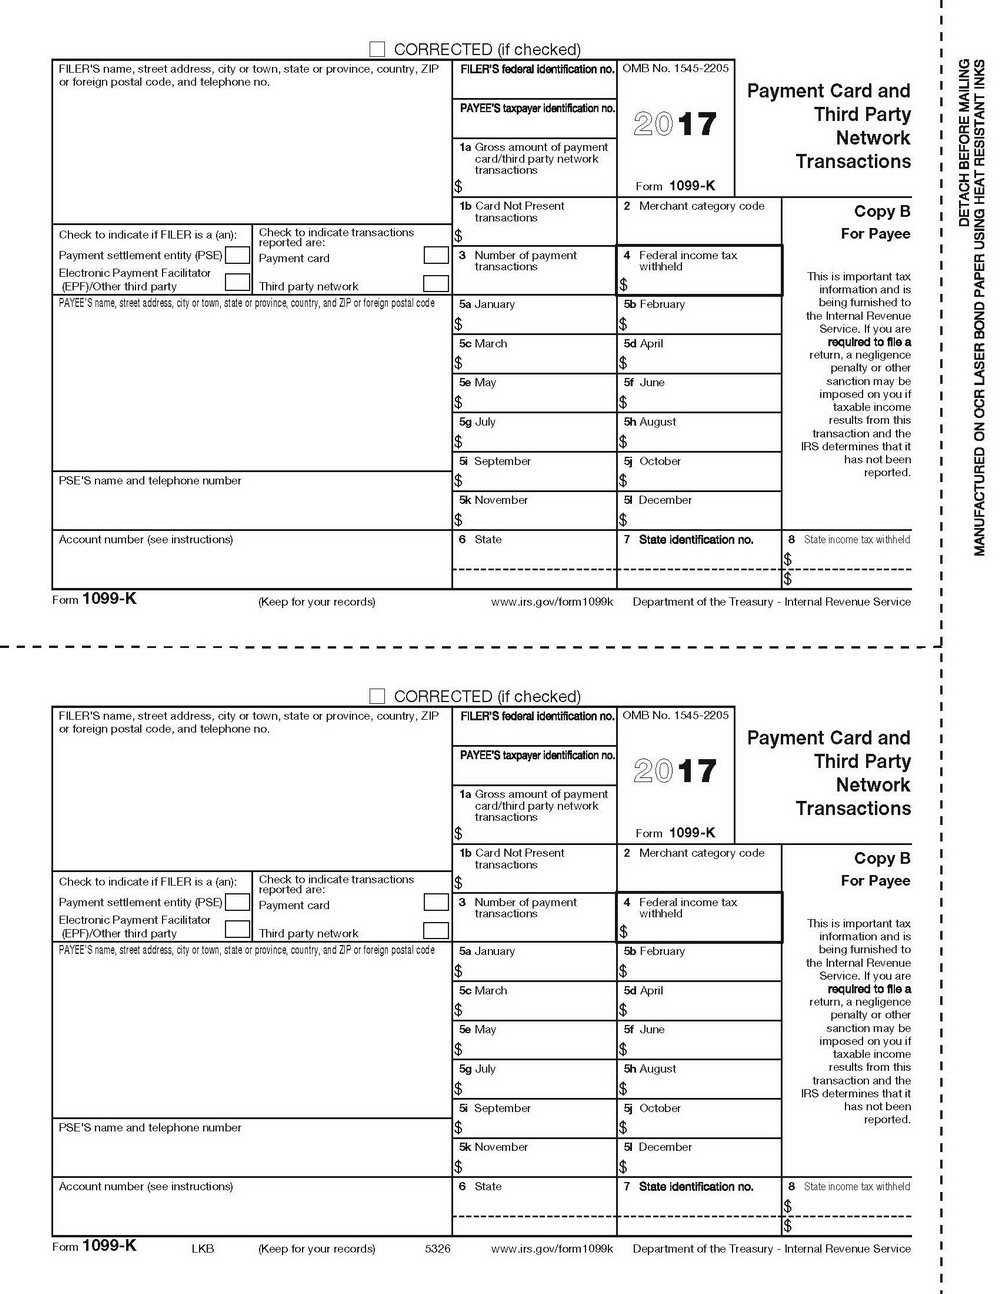checkbox: (221, 244, 252, 267), (223, 270, 254, 293), (222, 890, 253, 913), (221, 917, 252, 940), (422, 243, 453, 266), (420, 271, 451, 294), (421, 890, 452, 913), (420, 917, 451, 940), (364, 38, 390, 60), (364, 684, 390, 706)
textbox: (48, 289, 455, 475), (48, 937, 455, 1123), (47, 54, 456, 229), (47, 702, 456, 877), (47, 524, 457, 593), (48, 466, 458, 535), (48, 1113, 458, 1182), (48, 1173, 458, 1241), (447, 779, 622, 847), (446, 133, 623, 200), (447, 238, 622, 301), (449, 838, 623, 901), (447, 886, 622, 949), (447, 189, 621, 252), (613, 190, 787, 253), (613, 239, 787, 302), (613, 835, 787, 898), (612, 886, 786, 949), (449, 329, 624, 380), (447, 366, 623, 417), (447, 935, 623, 986), (447, 288, 622, 339), (612, 289, 787, 340), (611, 329, 786, 380), (612, 367, 787, 418), (447, 406, 622, 458), (447, 974, 622, 1025), (446, 1013, 621, 1064), (611, 1014, 786, 1065), (611, 975, 786, 1026), (611, 936, 786, 987), (447, 54, 623, 104), (450, 444, 625, 495), (613, 406, 788, 457), (612, 445, 787, 496), (447, 484, 622, 535), (614, 485, 789, 536), (446, 1053, 621, 1104), (445, 1092, 620, 1143), (447, 1131, 622, 1182), (447, 1171, 622, 1222), (613, 1170, 788, 1220), (612, 1130, 787, 1181), (612, 1092, 787, 1143), (612, 1052, 787, 1103), (447, 92, 623, 142), (610, 523, 786, 572), (447, 525, 623, 573), (447, 702, 620, 749), (450, 740, 622, 788), (779, 1169, 920, 1220), (777, 522, 917, 573), (447, 563, 621, 592), (613, 564, 786, 593), (447, 1210, 620, 1239), (612, 1212, 785, 1241), (777, 1210, 921, 1240), (779, 564, 919, 593)
